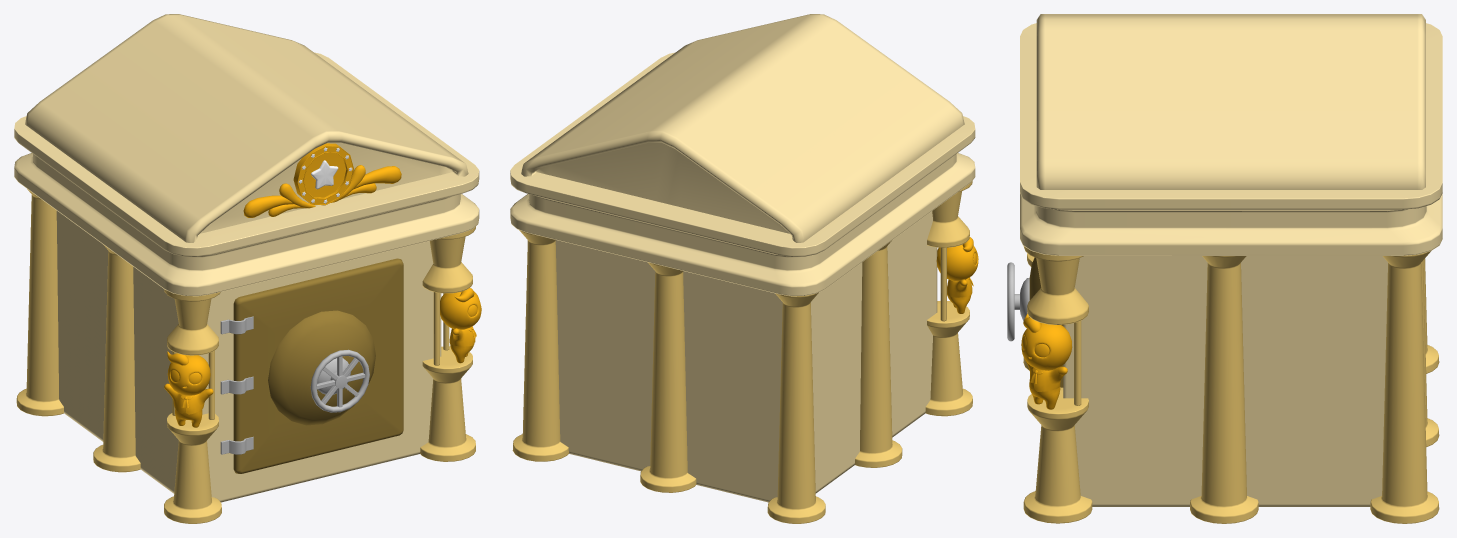
File: Bank.fbx
3 views of the same model, side by side, from view 1: azimuth 30°, elevation 25°; view 2: azimuth 150°, elevation 25°; view 3: azimuth 270°, elevation 25° (orthographic). The views are drawn at different scales.
Parts seen in each view (by area): view 1: pasted__pCylinder27; view 2: pasted__pCylinder27; view 3: pasted__pCylinder27.
Boxes of the visible parts, x1=… form: pasted__pCylinder27: x1=14, y1=14, x2=481, y2=523; pasted__pCylinder27: x1=510, y1=14, x2=978, y2=523; pasted__pCylinder27: x1=1007, y1=14, x2=1442, y2=523.
Bounding box in the file's own units: 1021 × 1111 × 1052.
